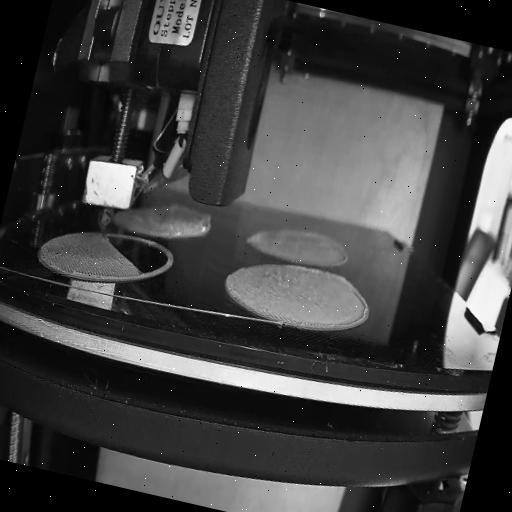over_extrusion: (344, 284, 376, 336)
